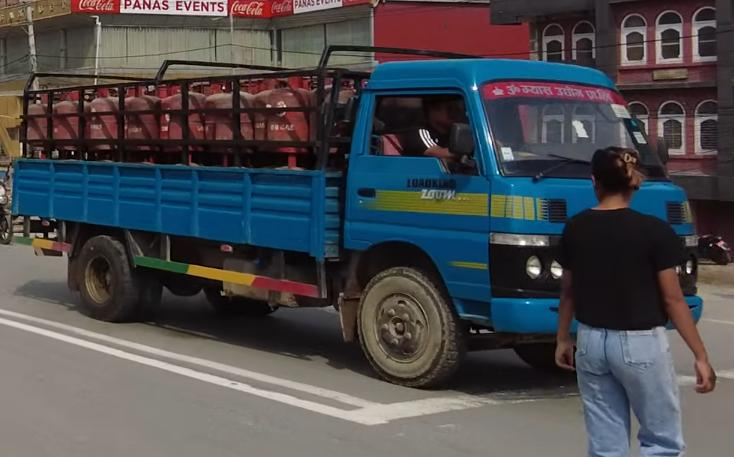mini_truck: (20, 46, 709, 375)
